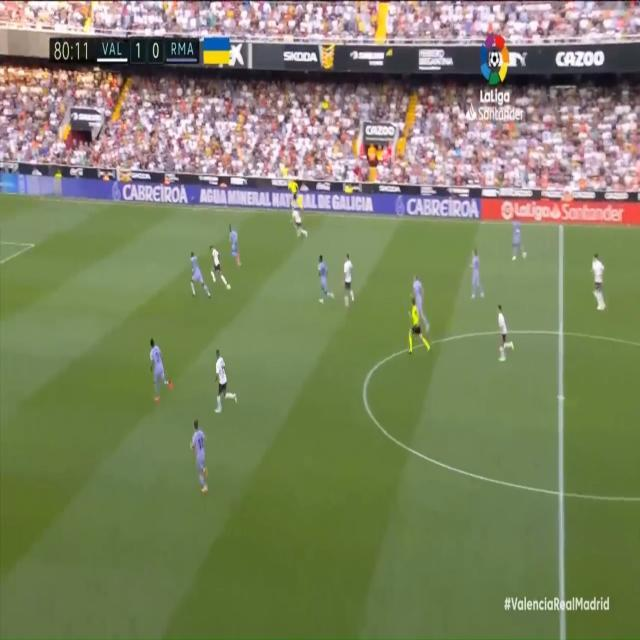ball: (226, 280, 233, 293)
player: (145, 337, 175, 406), (190, 415, 212, 500), (409, 268, 434, 331), (213, 354, 236, 414), (313, 254, 338, 307), (495, 301, 516, 364), (187, 252, 212, 300), (341, 249, 359, 311), (208, 240, 227, 293), (589, 248, 604, 310), (226, 223, 244, 273), (289, 202, 311, 240), (469, 248, 484, 302), (510, 215, 524, 261)
referee: (408, 296, 432, 355), (285, 177, 300, 209)
